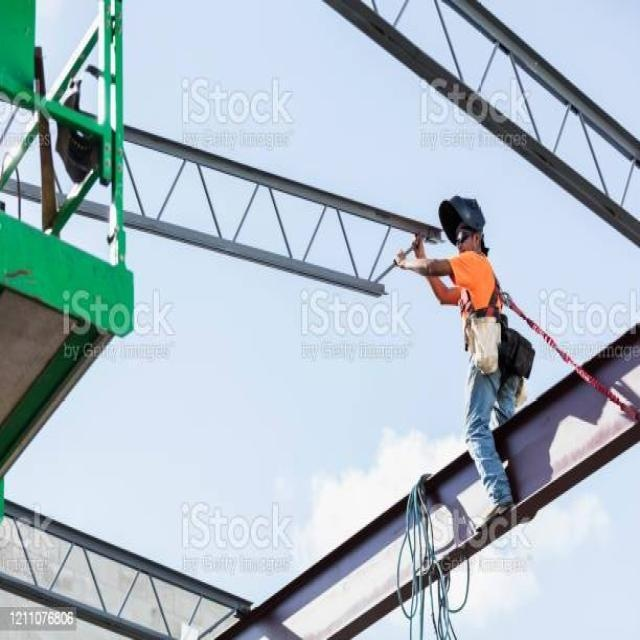Arnes_seguridad: (451, 257, 513, 357)
